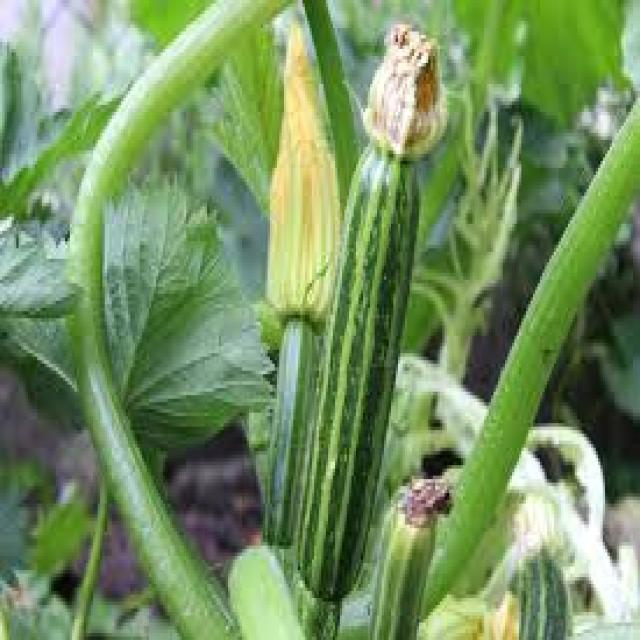Zucchini: (316, 112, 402, 611)
